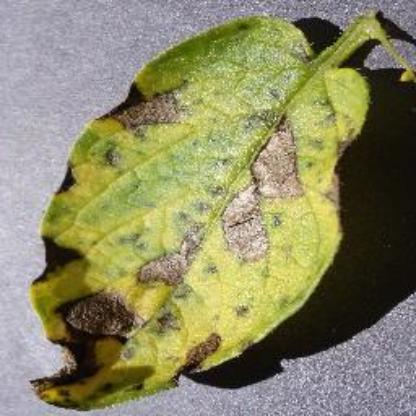Early-Blight: (27, 0, 415, 416)
